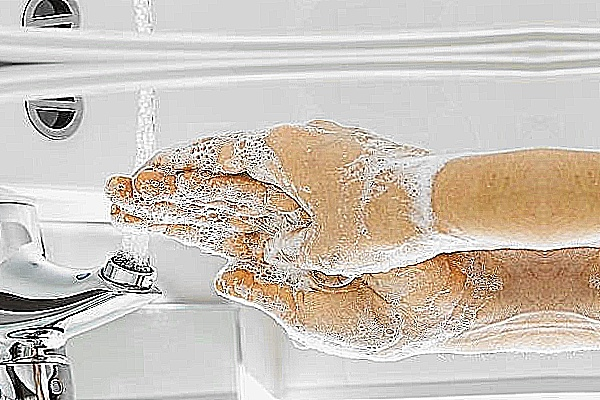washing hand: (0, 82, 479, 399)
